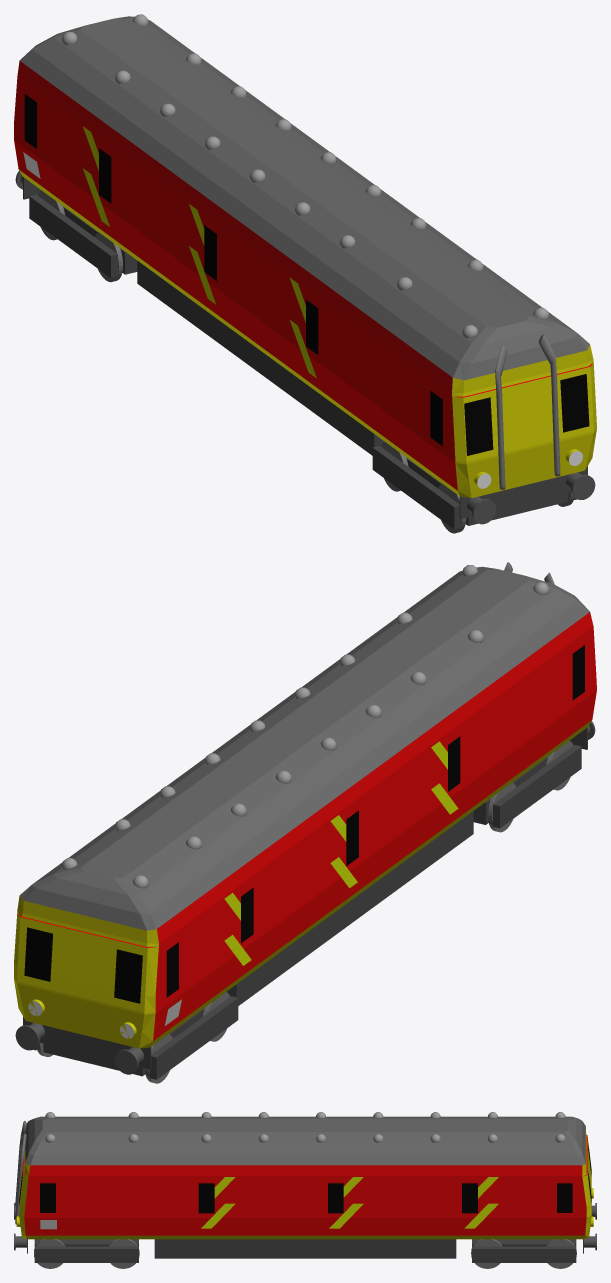
The picture shows the model from 3 angles, top to bottom: view 1: azimuth 30°, elevation 25°; view 2: azimuth 150°, elevation 25°; view 3: azimuth 270°, elevation 25°; orthographic projection. The views are drawn at different scales.
Parts seen in each view (by area): view 1: Plane_002, Cube_012, Cube_004, Cube_001, Cube_008, Plane_003, Plane_001, Cube_002, Cylinder_012, Cylinder_013; view 2: Plane_002, Cube_012, Cube_001, Cube_004, Cube_009, Plane_004, Plane_005, Cube_003; view 3: Plane_002, Cube_012, Cube, Cube_005, Plane_006, Plane_009, Plane_010, Plane, Plane_007, Cube_003, Cube_002, Cylinder_012 (+7 smaller).
Part boxes in pixels (<box>): Plane_002: <box>14,16,596,498</box>; Cube_012: <box>137,261,384,455</box>; Cube_004: <box>29,194,117,277</box>; Cube_001: <box>372,446,461,529</box>; Cube_008: <box>459,466,587,518</box>; Plane_003: <box>464,397,493,455</box>; Plane_001: <box>560,374,589,432</box>; Cube_002: <box>406,457,567,525</box>; Cylinder_012: <box>538,334,560,476</box>; Cylinder_013: <box>495,345,507,489</box>; Plane_002: <box>14,566,596,1048</box>; Cube_012: <box>226,811,473,1005</box>; Cube_001: <box>493,745,581,828</box>; Cube_004: <box>149,996,238,1079</box>; Cube_009: <box>23,1016,151,1069</box>; Plane_004: <box>114,949,142,1003</box>; Plane_005: <box>24,927,52,981</box>; Cube_003: <box>43,1008,204,1076</box>; Plane_002: <box>19,1116,591,1239</box>; Cube_012: <box>154,1239,456,1258</box>; Cube: <box>34,1246,138,1262</box>; Cube_005: <box>472,1246,576,1262</box>; Plane_006: <box>198,1183,214,1213</box>; Plane_009: <box>328,1183,343,1213</box>; Plane_010: <box>462,1183,477,1213</box>; Plane: <box>40,1183,55,1212</box>; Plane_007: <box>557,1183,572,1212</box>; Cube_003: <box>472,1239,576,1246</box>; Cube_002: <box>34,1239,138,1246</box>; Cylinder_012: <box>15,1134,26,1224</box>.
Bounding box in the file's own units: 2.04 × 11.2 × 2.71.
